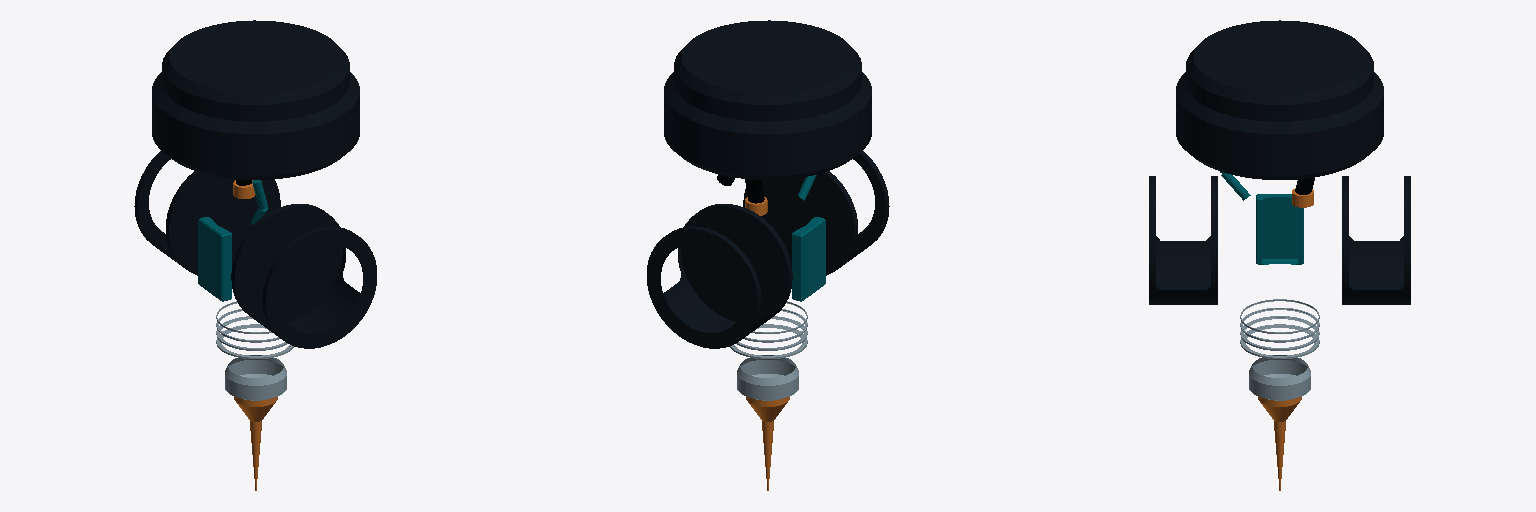
URDF robot description (BC 长嘴切割头):
<?xml version='1.0' encoding='utf-8'?>
<robot name="BC 长嘴切割头">
  <link name="刀头安装基准" />
  <joint name="C" type="revolute">
    <parent link="刀头安装基准" />
    <child link="C 回转叉架" />
    <origin xyz="0.00299999862909317 0.0 -0.8994999676942825" />
    <axis xyz="0 0 1" />
    <limit lower="-3.141592653589793" upper="3.141592653589793" velocity="1.5" effort="5000" />
  </joint>
  <link name="C 回转叉架">
    <visual name="c_yoke_dark">
      <geometry>
        <mesh filename="meshes/GBC-3015_c_yoke_dark.stl" />
      </geometry>
      <material name="dark">
        <color rgba="0.08 0.11 0.14 1" />
      </material>
      <origin xyz="0 0 0.144999995827675" rpy="0 0 1.5707963267949" />
    </visual>
    <visual name="c_yoke_steel">
      <geometry>
        <mesh filename="meshes/GBC-3015_c_yoke_steel.stl" />
      </geometry>
      <material name="steel">
        <color rgba="0.54 0.61 0.65 1" />
      </material>
      <origin xyz="0 0 0.144999995827675" rpy="0 0 1.5707963267949" />
    </visual>
    <visual name="c_yoke_black">
      <geometry>
        <mesh filename="meshes/GBC-3015_c_yoke_black.stl" />
      </geometry>
      <material name="black">
        <color rgba="0.025 0.035 0.043 1" />
      </material>
      <origin xyz="0 0 0.144999995827675" rpy="0 0 1.5707963267949" />
    </visual>
    <visual name="c_yoke_shell">
      <geometry>
        <mesh filename="meshes/GBC-3015_c_yoke_shell.stl" />
      </geometry>
      <material name="shell">
        <color rgba="0.79 0.82 0.84 1" />
      </material>
      <origin xyz="0 0 0.144999995827675" rpy="0 0 1.5707963267949" />
    </visual>
    <collision name="c_yoke_box_1">
      <origin xyz="0 0 0.0874994947845937" rpy="0 0 1.5707963267949" />
      <geometry>
        <box size="0.226 0.226 0.115001002086162" />
      </geometry>
    </collision>
    <collision name="c_yoke_box_2">
      <origin xyz="3.4478976923787e-16 -0.10224950038743 -0.0500000041723251" rpy="0 0 1.5707963267949" />
      <geometry>
        <box size="0.11550099922514 0.171475026275635 0.2" />
      </geometry>
    </collision>
    <collision name="c_yoke_box_3">
      <origin xyz="-3.4478976923787e-16 0.10224950038743 -0.0500000041723251" rpy="0 0 1.5707963267949" />
      <geometry>
        <box size="0.11550099922514 0.171475026275635 0.2" />
      </geometry>
    </collision>
  </link>
  <link name="B 激光切割头">
    <icax_tool name="GBC-3015 物理喷嘴" type="laser_cutting_head" tcp_mm="-1.99768074009807e-16 -3.26246023178101 -300.2" beam="0 0 -1" />
    <visual name="laser_head_dark">
      <geometry>
        <mesh filename="meshes/GBC-3015_laser_head_dark.stl" />
      </geometry>
      <material name="dark">
        <color rgba="0.08 0.11 0.14 1" />
      </material>
      <origin xyz="-1.99768074009807e-19 -0.00326246023178101 0" rpy="0 0 1.5707963267949" />
    </visual>
    <visual name="laser_head_shell">
      <geometry>
        <mesh filename="meshes/GBC-3015_laser_head_shell.stl" />
      </geometry>
      <material name="shell">
        <color rgba="0.79 0.82 0.84 1" />
      </material>
      <origin xyz="-1.99768074009807e-19 -0.00326246023178101 0" rpy="0 0 1.5707963267949" />
    </visual>
    <visual name="laser_head_steel">
      <geometry>
        <mesh filename="meshes/GBC-3015_laser_head_steel.stl" />
      </geometry>
      <material name="steel">
        <color rgba="0.54 0.61 0.65 1" />
      </material>
      <origin xyz="-1.99768074009807e-19 -0.00326246023178101 0" rpy="0 0 1.5707963267949" />
    </visual>
    <visual name="laser_head_copper">
      <geometry>
        <mesh filename="meshes/GBC-3015_laser_head_copper.stl" />
      </geometry>
      <material name="copper">
        <color rgba="0.78 0.46 0.19 1" />
      </material>
      <origin xyz="-1.99768074009807e-19 -0.00326246023178101 0" rpy="0 0 1.5707963267949" />
    </visual>
    <visual name="laser_head_black">
      <geometry>
        <mesh filename="meshes/GBC-3015_laser_head_black.stl" />
      </geometry>
      <material name="black">
        <color rgba="0.025 0.035 0.043 1" />
      </material>
      <origin xyz="-1.99768074009807e-19 -0.00326246023178101 0" rpy="0 0 1.5707963267949" />
    </visual>
    <visual name="laser_head_teal">
      <geometry>
        <mesh filename="meshes/GBC-3015_laser_head_teal.stl" />
      </geometry>
      <material name="teal">
        <color rgba="0.035 0.39 0.43 1" />
      </material>
      <origin xyz="-1.99768074009807e-19 -0.00326246023178101 0" rpy="0 0 1.5707963267949" />
    </visual>
    <collision name="laser_head_box_1">
      <origin xyz="-1.99768074009807e-19 -0.00326246023178101 -0.015" rpy="0 0 1.5707963267949" />
      <geometry>
        <box size="0.185002 0.116002 0.120002" />
      </geometry>
    </collision>
    <collision name="laser_head_box_2">
      <origin xyz="-1.99768074009807e-19 -0.00326246023178101 -0.116500003635883" rpy="0 0 1.5707963267949" />
      <geometry>
        <box size="0.088002 0.088002 0.0830020072717667" />
      </geometry>
    </collision>
    <collision name="laser_head_box_3">
      <origin xyz="-1.99768074009807e-19 -0.00326246023178101 -0.165699998915195" rpy="0 0 1.5707963267949" />
      <geometry>
        <box size="0.068002003695488 0.068002003695488 0.0306020021696091" />
      </geometry>
    </collision>
    <collision name="laser_nozzle_upper_slab">
      <origin xyz="-1.99768074009807e-19 -0.00326246023178101 -0.197" rpy="0 0 1.5707963267949" />
      <geometry>
        <box size="0.048002 0.048002 0.034002" />
      </geometry>
    </collision>
    <collision name="laser_head_box_5">
      <origin xyz="-0.025 0.015786039768219 0.0863198262304068" rpy="0 0 1.5707963267949" />
      <geometry>
        <box size="0.171905 0.090002 0.0963623475391865" />
      </geometry>
    </collision>
    <collision name="laser_nozzle_tip_slab_01">
      <origin xyz="-1.99768074009807e-19 -0.00326246023178101 -0.215" />
      <geometry>
        <box size="0.0140020004321337 0.0140020004321337 0.002002" />
      </geometry>
    </collision>
    <collision name="laser_nozzle_tip_slab_02">
      <origin xyz="-1.99768074009807e-19 -0.00326246023178101 -0.217" />
      <geometry>
        <box size="0.0136996748406887 0.0136996748406887 0.002002" />
      </geometry>
    </collision>
    <collision name="laser_nozzle_tip_slab_03">
      <origin xyz="-1.99768074009807e-19 -0.00326246023178101 -0.219" />
      <geometry>
        <box size="0.0133973492492437 0.0133973492492437 0.002002" />
      </geometry>
    </collision>
    <collision name="laser_nozzle_tip_slab_04">
      <origin xyz="-1.99768074009807e-19 -0.00326246023178101 -0.221" />
      <geometry>
        <box size="0.0130950236577988 0.0130950236577988 0.002002" />
      </geometry>
    </collision>
    <collision name="laser_nozzle_tip_slab_05">
      <origin xyz="-1.99768074009807e-19 -0.00326246023178101 -0.223" />
      <geometry>
        <box size="0.0127926980663538 0.0127926980663538 0.002002" />
      </geometry>
    </collision>
    <collision name="laser_nozzle_tip_slab_06">
      <origin xyz="-1.99768074009807e-19 -0.00326246023178101 -0.225" />
      <geometry>
        <box size="0.0124903724749088 0.0124903724749088 0.002002" />
      </geometry>
    </collision>
    <collision name="laser_nozzle_tip_slab_07">
      <origin xyz="-1.99768074009807e-19 -0.00326246023178101 -0.227" />
      <geometry>
        <box size="0.0121880468834639 0.0121880468834639 0.002002" />
      </geometry>
    </collision>
    <collision name="laser_nozzle_tip_slab_08">
      <origin xyz="-1.99768074009807e-19 -0.00326246023178101 -0.229" />
      <geometry>
        <box size="0.0118857212920189 0.0118857212920189 0.00200199999999997" />
      </geometry>
    </collision>
    <collision name="laser_nozzle_tip_slab_09">
      <origin xyz="-1.99768074009807e-19 -0.00326246023178101 -0.231" />
      <geometry>
        <box size="0.0115833957005739 0.0115833957005739 0.002002" />
      </geometry>
    </collision>
    <collision name="laser_nozzle_tip_slab_10">
      <origin xyz="-1.99768074009807e-19 -0.00326246023178101 -0.233" />
      <geometry>
        <box size="0.011281070109129 0.011281070109129 0.002002" />
      </geometry>
    </collision>
    <collision name="laser_nozzle_tip_slab_11">
      <origin xyz="-1.99768074009807e-19 -0.00326246023178101 -0.235" />
      <geometry>
        <box size="0.010978744517684 0.010978744517684 0.002002" />
      </geometry>
    </collision>
    <collision name="laser_nozzle_tip_slab_12">
      <origin xyz="-1.99768074009807e-19 -0.00326246023178101 -0.237" />
      <geometry>
        <box size="0.010676418926239 0.010676418926239 0.002002" />
      </geometry>
    </collision>
    <collision name="laser_nozzle_tip_slab_13">
      <origin xyz="-1.99768074009807e-19 -0.00326246023178101 -0.239" />
      <geometry>
        <box size="0.010374093334794 0.010374093334794 0.002002" />
      </geometry>
    </collision>
    <collision name="laser_nozzle_tip_slab_14">
      <origin xyz="-1.99768074009807e-19 -0.00326246023178101 -0.241" />
      <geometry>
        <box size="0.0100717677433491 0.0100717677433491 0.002002" />
      </geometry>
    </collision>
    <collision name="laser_nozzle_tip_slab_15">
      <origin xyz="-1.99768074009807e-19 -0.00326246023178101 -0.243" />
      <geometry>
        <box size="0.00976944215190411 0.00976944215190411 0.002002" />
      </geometry>
    </collision>
    <collision name="laser_nozzle_tip_slab_16">
      <origin xyz="-1.99768074009807e-19 -0.00326246023178101 -0.245" />
      <geometry>
        <box size="0.00946711656045914 0.00946711656045914 0.002002" />
      </geometry>
    </collision>
    <collision name="laser_nozzle_tip_slab_17">
      <origin xyz="-1.99768074009807e-19 -0.00326246023178101 -0.247" />
      <geometry>
        <box size="0.00916479096901417 0.00916479096901417 0.002002" />
      </geometry>
    </collision>
    <collision name="laser_nozzle_tip_slab_18">
      <origin xyz="-1.99768074009807e-19 -0.00326246023178101 -0.249" />
      <geometry>
        <box size="0.0088624653775692 0.0088624653775692 0.002002" />
      </geometry>
    </collision>
    <collision name="laser_nozzle_tip_slab_19">
      <origin xyz="-1.99768074009807e-19 -0.00326246023178101 -0.251" />
      <geometry>
        <box size="0.00856013978612423 0.00856013978612423 0.002002" />
      </geometry>
    </collision>
    <collision name="laser_nozzle_tip_slab_20">
      <origin xyz="-1.99768074009807e-19 -0.00326246023178101 -0.253" />
      <geometry>
        <box size="0.00825781419467926 0.00825781419467926 0.002002" />
      </geometry>
    </collision>
    <collision name="laser_nozzle_tip_slab_21">
      <origin xyz="-1.99768074009807e-19 -0.00326246023178101 -0.255" />
      <geometry>
        <box size="0.00795548860323429 0.00795548860323429 0.002002" />
      </geometry>
    </collision>
    <collision name="laser_nozzle_tip_slab_22">
      <origin xyz="-1.99768074009807e-19 -0.00326246023178101 -0.257" />
      <geometry>
        <box size="0.00765316301178932 0.00765316301178932 0.002002" />
      </geometry>
    </collision>
    <collision name="laser_nozzle_tip_slab_23">
      <origin xyz="-1.99768074009807e-19 -0.00326246023178101 -0.259" />
      <geometry>
        <box size="0.00735083742034435 0.00735083742034435 0.002002" />
      </geometry>
    </collision>
    <collision name="laser_nozzle_tip_slab_24">
      <origin xyz="-1.99768074009807e-19 -0.00326246023178101 -0.261" />
      <geometry>
        <box size="0.00704851182889938 0.00704851182889938 0.002002" />
      </geometry>
    </collision>
    <collision name="laser_nozzle_tip_slab_25">
      <origin xyz="-1.99768074009807e-19 -0.00326246023178101 -0.263" />
      <geometry>
        <box size="0.00674618623745441 0.00674618623745441 0.002002" />
      </geometry>
    </collision>
    <collision name="laser_nozzle_tip_slab_26">
      <origin xyz="-1.99768074009807e-19 -0.00326246023178101 -0.265" />
      <geometry>
        <box size="0.00644386064600944 0.00644386064600944 0.002002" />
      </geometry>
    </collision>
    <collision name="laser_nozzle_tip_slab_27">
      <origin xyz="-1.99768074009807e-19 -0.00326246023178101 -0.267" />
      <geometry>
        <box size="0.00614153505456447 0.00614153505456447 0.002002" />
      </geometry>
    </collision>
    <collision name="laser_nozzle_tip_slab_28">
      <origin xyz="-1.99768074009807e-19 -0.00326246023178101 -0.269" />
      <geometry>
        <box size="0.0058392094631195 0.0058392094631195 0.002002" />
      </geometry>
    </collision>
    <collision name="laser_nozzle_tip_slab_29">
      <origin xyz="-1.99768074009807e-19 -0.00326246023178101 -0.271" />
      <geometry>
        <box size="0.00553688387167454 0.00553688387167454 0.002002" />
      </geometry>
    </collision>
    <collision name="laser_nozzle_tip_slab_30">
      <origin xyz="-1.99768074009807e-19 -0.00326246023178101 -0.273" />
      <geometry>
        <box size="0.00523455828022957 0.00523455828022957 0.00200199999999995" />
      </geometry>
    </collision>
    <collision name="laser_nozzle_tip_slab_31">
      <origin xyz="-1.99768074009807e-19 -0.00326246023178101 -0.275" />
      <geometry>
        <box size="0.0049322326887846 0.0049322326887846 0.00200200000000006" />
      </geometry>
    </collision>
    <collision name="laser_nozzle_tip_slab_32">
      <origin xyz="-1.99768074009807e-19 -0.00326246023178101 -0.277" />
      <geometry>
        <box size="0.00462990709733963 0.00462990709733963 0.002002" />
      </geometry>
    </collision>
    <collision name="laser_nozzle_tip_slab_33">
      <origin xyz="-1.99768074009807e-19 -0.00326246023178101 -0.279" />
      <geometry>
        <box size="0.00432758150589466 0.00432758150589466 0.00200199999999995" />
      </geometry>
    </collision>
    <collision name="laser_nozzle_tip_slab_34">
      <origin xyz="-1.99768074009807e-19 -0.00326246023178101 -0.281" />
      <geometry>
        <box size="0.00402525591444969 0.00402525591444969 0.00200200000000006" />
      </geometry>
    </collision>
    <collision name="laser_nozzle_tip_slab_35">
      <origin xyz="-1.99768074009807e-19 -0.00326246023178101 -0.283" />
      <geometry>
        <box size="0.00372293032300472 0.00372293032300472 0.00200199999999995" />
      </geometry>
    </collision>
    <collision name="laser_nozzle_tip_slab_36">
      <origin xyz="-1.99768074009807e-19 -0.00326246023178101 -0.285" />
      <geometry>
        <box size="0.00342060473155976 0.00342060473155976 0.002002" />
      </geometry>
    </collision>
    <collision name="laser_nozzle_tip_slab_37">
      <origin xyz="-1.99768074009807e-19 -0.00326246023178101 -0.287" />
      <geometry>
        <box size="0.00311827914011479 0.00311827914011479 0.002002" />
      </geometry>
    </collision>
    <collision name="laser_nozzle_tip_slab_38">
      <origin xyz="-1.99768074009807e-19 -0.00326246023178101 -0.289" />
      <geometry>
        <box size="0.00281595354866982 0.00281595354866982 0.002002" />
      </geometry>
    </collision>
    <collision name="laser_nozzle_tip_slab_39">
      <origin xyz="-1.99768074009807e-19 -0.00326246023178101 -0.291" />
      <geometry>
        <box size="0.00251362795722485 0.00251362795722485 0.002002" />
      </geometry>
    </collision>
    <collision name="laser_nozzle_tip_slab_40">
      <origin xyz="-1.99768074009807e-19 -0.00326246023178101 -0.293" />
      <geometry>
        <box size="0.00221130236577988 0.00221130236577988 0.002002" />
      </geometry>
    </collision>
    <collision name="laser_nozzle_tip_slab_41">
      <origin xyz="-1.99768074009807e-19 -0.00326246023178101 -0.295" />
      <geometry>
        <box size="0.00190897677433491 0.00190897677433491 0.002002" />
      </geometry>
    </collision>
    <collision name="laser_nozzle_tip_slab_42">
      <origin xyz="-1.99768074009807e-19 -0.00326246023178101 -0.297" />
      <geometry>
        <box size="0.00160665118288994 0.00160665118288994 0.002002" />
      </geometry>
    </collision>
    <collision name="laser_nozzle_tip_slab_43">
      <origin xyz="-1.99768074009807e-19 -0.00326246023178101 -0.299" />
      <geometry>
        <box size="0.00130432559144497 0.00130432559144497 0.002002" />
      </geometry>
    </collision>
  </link>
  <joint name="B" type="revolute">
    <parent link="C 回转叉架" />
    <child link="B 激光切割头" />
    <origin xyz="1.99768074009807e-19 0.00326246023178101 -0.0750000041723251" />
    <axis xyz="0 1 0" />
    <limit lower="-2.09439510239" upper="2.09439510239" velocity="1.5" effort="5000" />
  </joint>
</robot>

--- What the picture shows (computed from the rendered views, not written in the file) ---
Views: 3 orthographic renders of the robot side by side, from view 1: azimuth 30°, elevation 25°; view 2: azimuth 150°, elevation 25°; view 3: azimuth 270°, elevation 25°.
Model BC 长嘴切割头 with 3 links and 2 joints (2 revolute), rooted at 刀头安装基准, posed all joints at 0.
Visible links, largest first — view 1: C 回转叉架, B 激光切割头; view 2: C 回转叉架, B 激光切割头; view 3: C 回转叉架, B 激光切割头.
Boxes of the visible links, box(x1,y1,x2,y2) form: C 回转叉架: box(134, 20, 376, 348); B 激光切割头: box(198, 179, 293, 490); C 回转叉架: box(647, 20, 889, 348); B 激光切割头: box(717, 174, 825, 490); C 回转叉架: box(1149, 20, 1410, 304); B 激光切割头: box(1220, 171, 1319, 490).
Bounding box of the posed robot: 0.226 × 0.285 × 0.52 m (x, y, z).
Meshes: 10 distinct files referenced, 5 mesh visuals loaded (5 binary STL); not drawn: 5 (reference not matched to a file when rendering).
